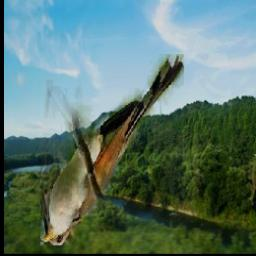Cuckoo: (40, 54, 184, 245)
